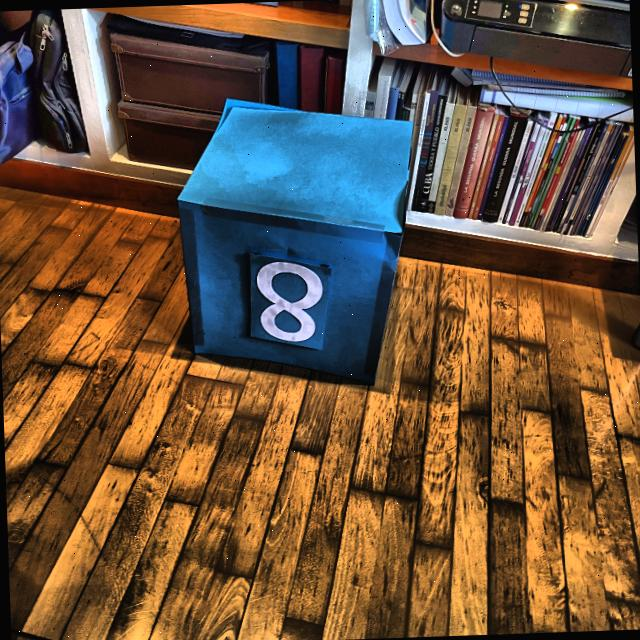blue box: (168, 90, 422, 396)
eight: (255, 255, 328, 344)
